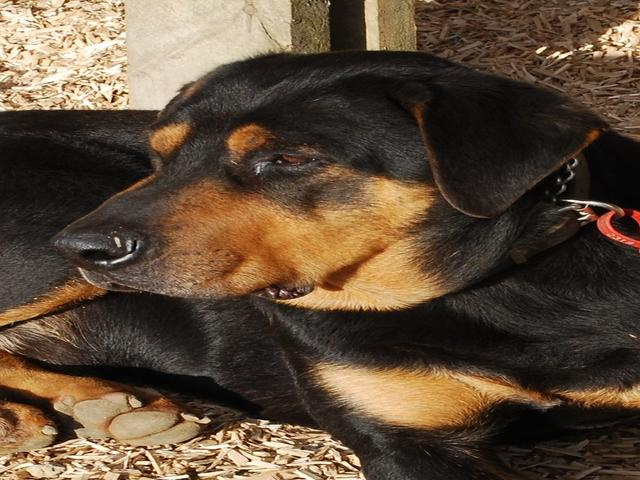dog: (78, 26, 587, 317)
